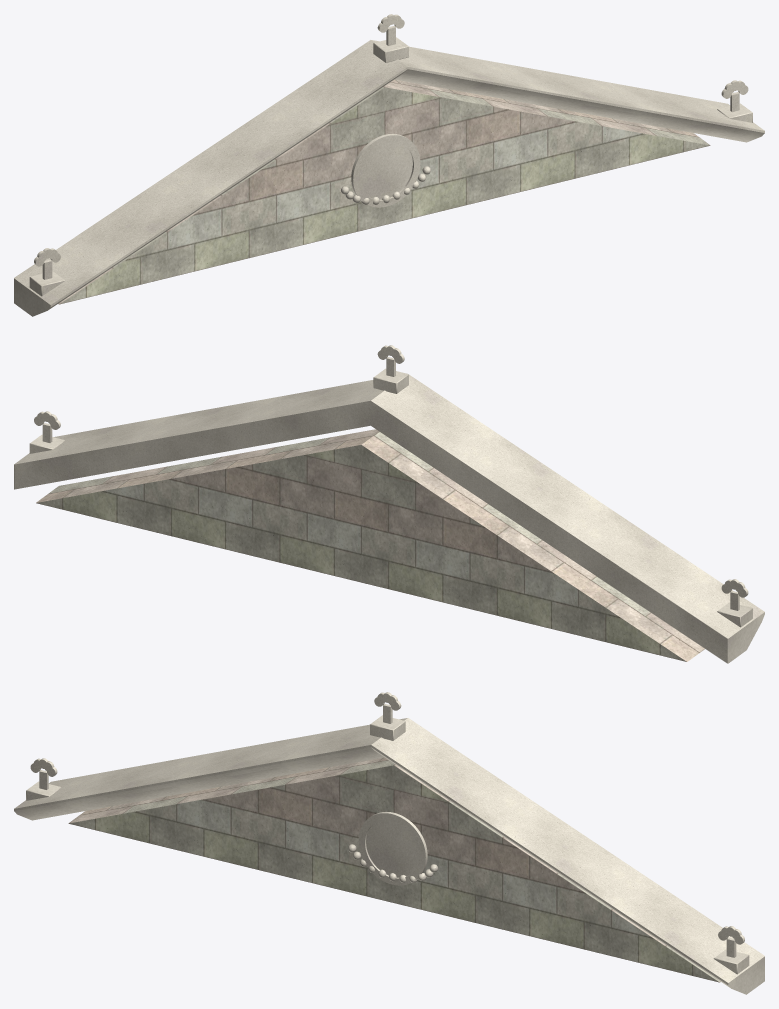
Rendered from pediment_front.glb.
The picture shows the model from 3 angles, top to bottom: view 1: azimuth 30°, elevation 25°; view 2: azimuth 150°, elevation 25°; view 3: azimuth 330°, elevation 25°; orthographic projection.
Visible parts, largest first — view 1: pediment_front_stone, pediment_front_carve; view 2: pediment_front_stone, pediment_front_carve; view 3: pediment_front_stone, pediment_front_carve.
Part boxes in pixels (x1,y1,x2,y2): pediment_front_stone: (58,79,710,304); pediment_front_carve: (14,14,764,316); pediment_front_stone: (36,429,704,661); pediment_front_carve: (14,345,764,663); pediment_front_stone: (68,757,720,982); pediment_front_carve: (14,692,764,994).
Size of the model in its own units: 13.15 by 3.8 by 1.48.
2 materials, 2 textured.
